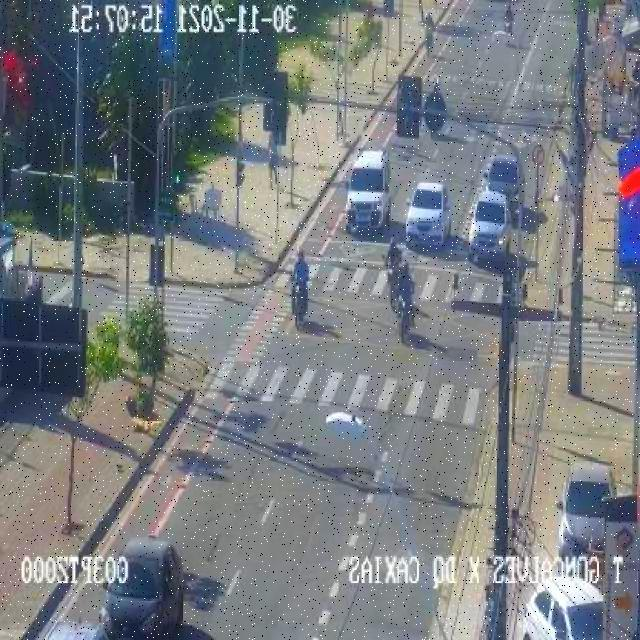Car: (100, 535, 186, 637), (558, 462, 624, 559), (522, 575, 607, 638), (464, 191, 514, 257), (405, 182, 452, 247), (478, 154, 521, 201)
Cycle: (385, 267, 427, 331), (289, 267, 323, 317)
Van: (345, 147, 394, 235)
